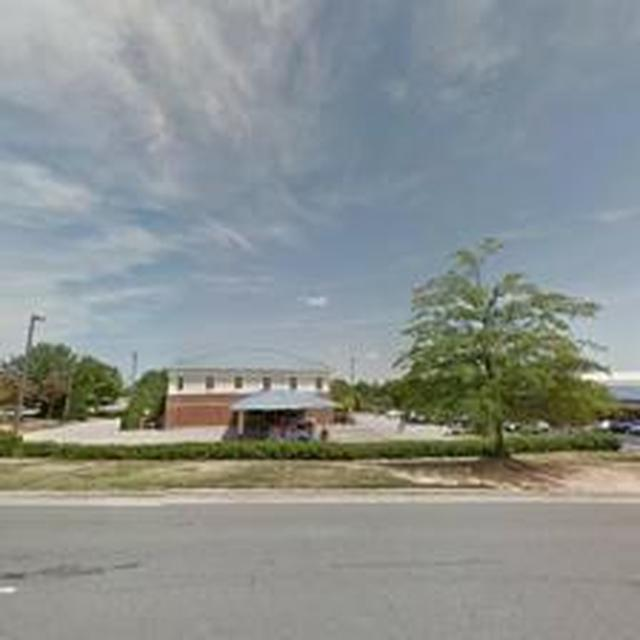building: (168, 342, 342, 442)
